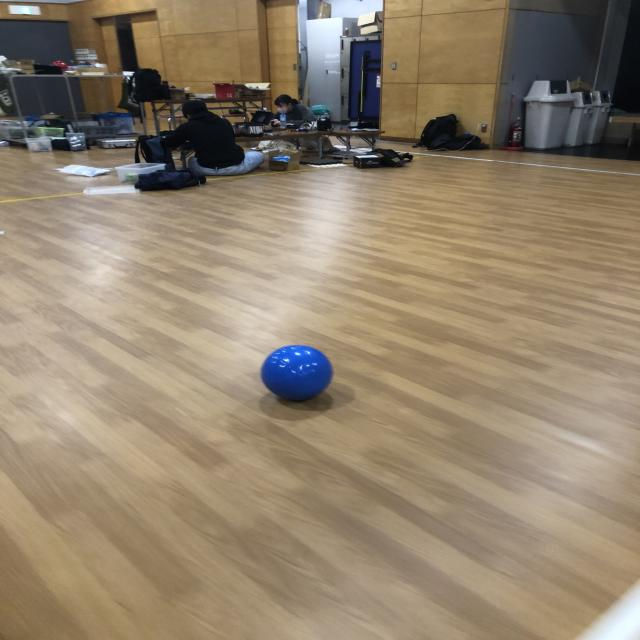blue_ball: (263, 345, 336, 405)
